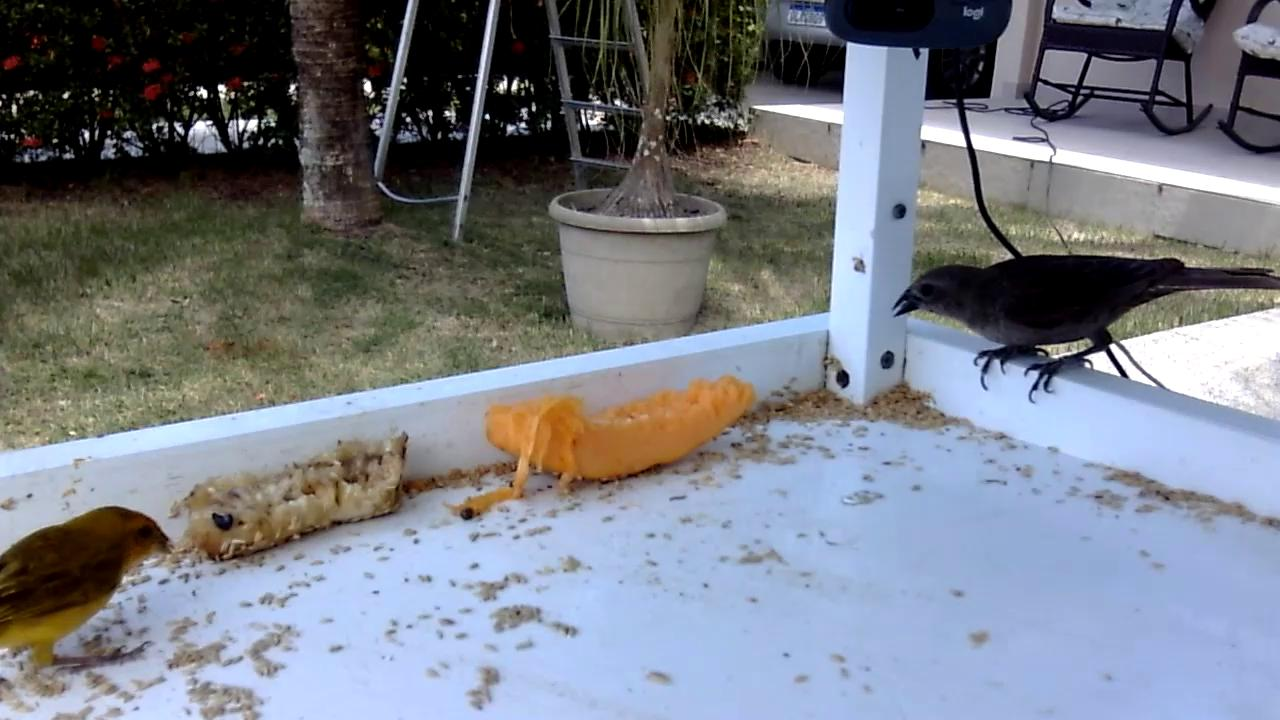canario_do_amazonas: (1, 503, 179, 680)
chupim: (887, 252, 1280, 409)
